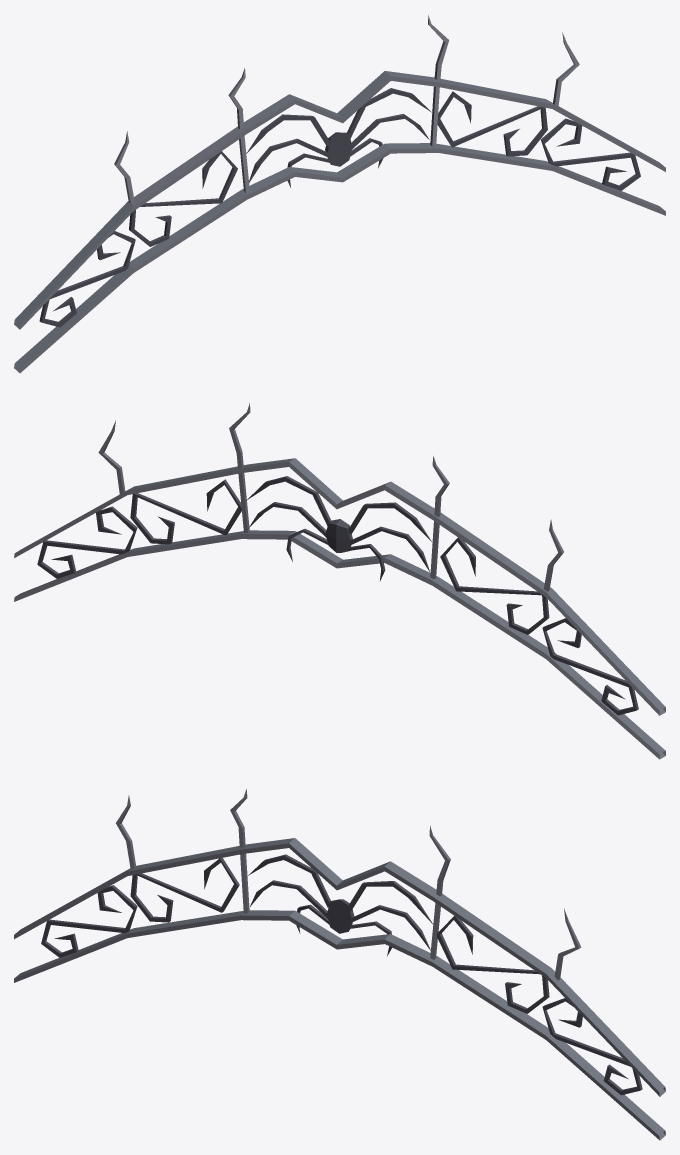
File: HWN20_IronEntranceArch_02.glb
3 renders of one model, top to bottom at view 1: azimuth 30°, elevation 25°; view 2: azimuth 150°, elevation 25°; view 3: azimuth 330°, elevation 25°, orthographic.
Visible parts, largest first — view 1: HWN20_IronEntranceArch_02; view 2: HWN20_IronEntranceArch_02; view 3: HWN20_IronEntranceArch_02.
Boxes of the visible parts, x1,y1,x2,y2 form: HWN20_IronEntranceArch_02: (14,15,665,373); HWN20_IronEntranceArch_02: (14,403,665,759); HWN20_IronEntranceArch_02: (14,789,665,1140).
Size of what is drawn, in the model's own units: 9.21 by 3.48 by 0.2176.
Materials: 1 (1 with a texture image).
